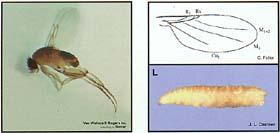phorid fly: (8, 6, 125, 118)
